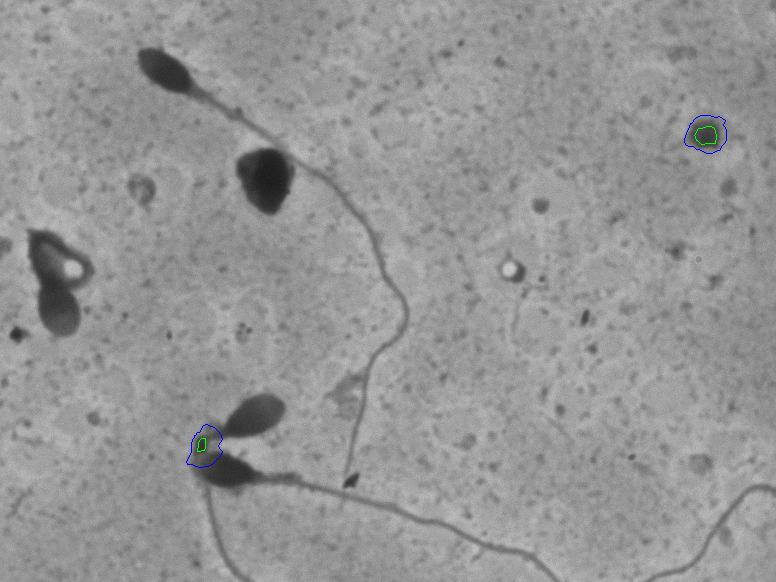Abnormal: (13, 210, 99, 351)
Normal: (109, 16, 444, 486)
